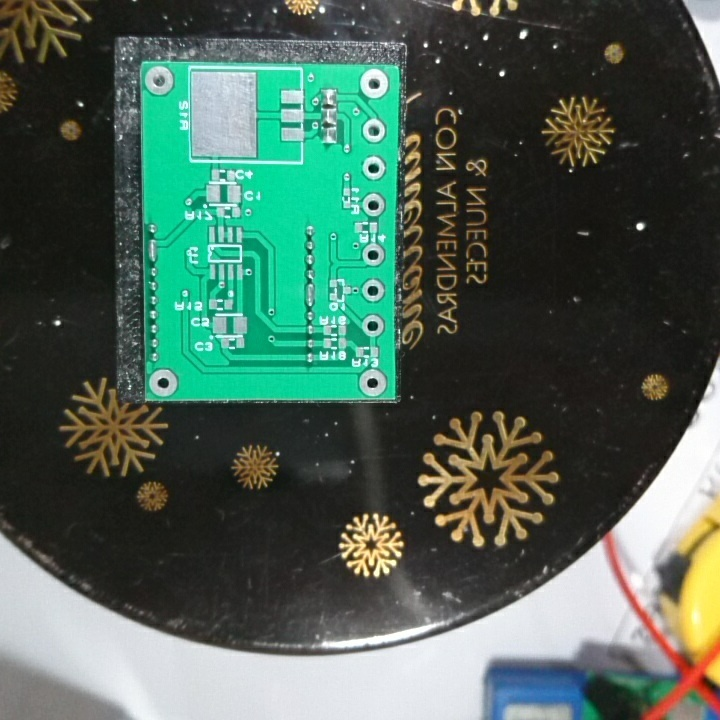F: (356, 364, 390, 398), (142, 63, 175, 97), (358, 66, 390, 101), (149, 369, 179, 397), (361, 240, 387, 270), (360, 191, 388, 218), (359, 118, 387, 144), (360, 154, 388, 180), (361, 312, 387, 340), (359, 278, 386, 304)
P: (301, 280, 319, 307), (145, 237, 161, 262)
